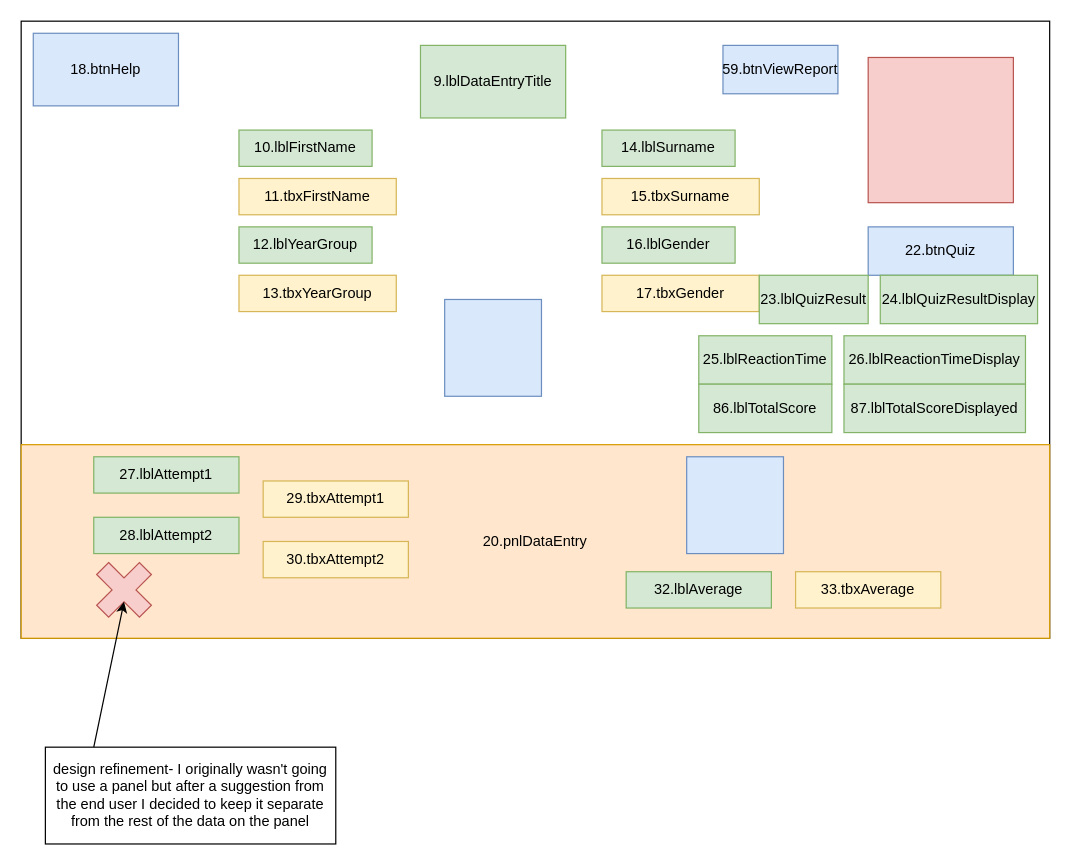
This 1071x865 diagram has some shape labels left out. The centre of each missing label's shape, as x and y in pixels:
19.btnSubmit: point 492,347
21.pbxLogoDataEntry: point 940,129
31.btnAverage: point 734,505
